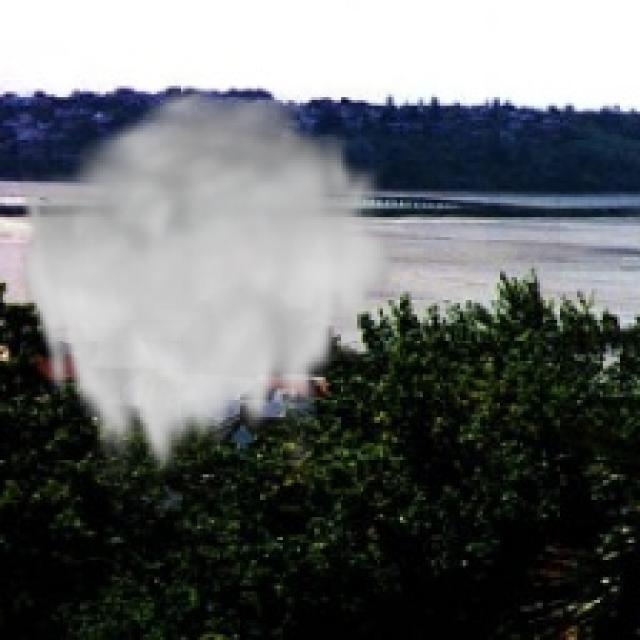Smoke: (14, 80, 403, 486)
